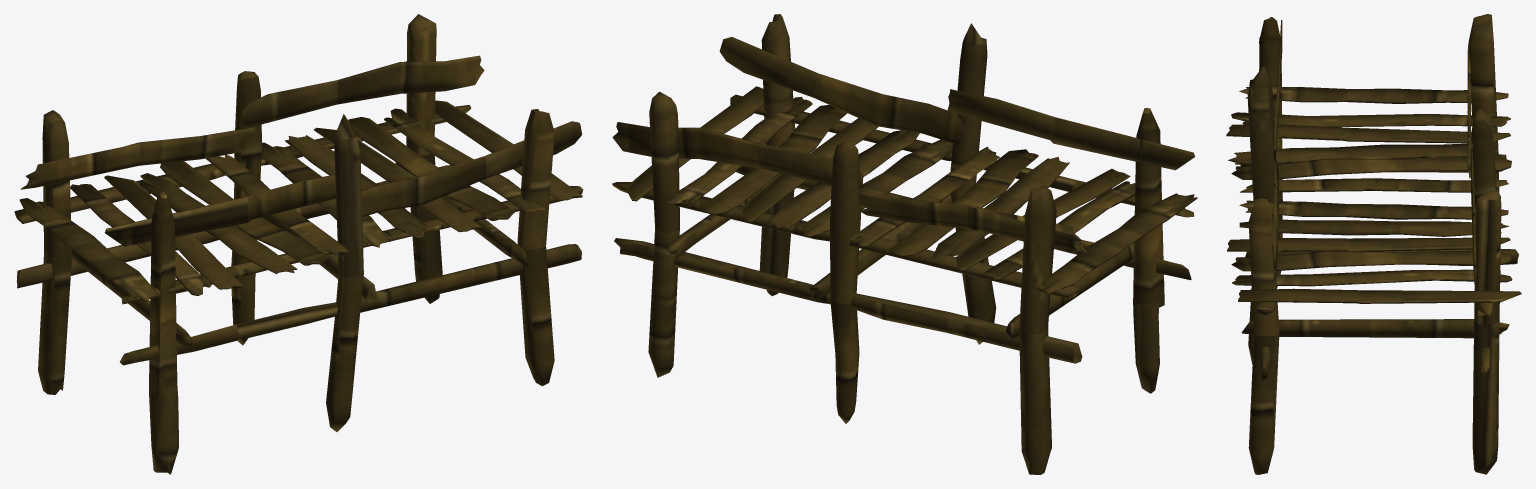
Rendered from Footbridge_long.fbx.
The picture shows the model from 3 angles, left to right: view 1: azimuth 30°, elevation 25°; view 2: azimuth 150°, elevation 25°; view 3: azimuth 270°, elevation 25°; orthographic projection. The views are drawn at different scales.
Visible parts, largest first — view 1: Footbridge; view 2: Footbridge; view 3: Footbridge.
Part boxes in pixels (x1,y1,x2,y2): Footbridge: [14, 14, 583, 474]; Footbridge: [612, 14, 1197, 474]; Footbridge: [1226, 14, 1521, 474].
Size of what is drawn, in the model's own units: 201 by 128 by 108.
